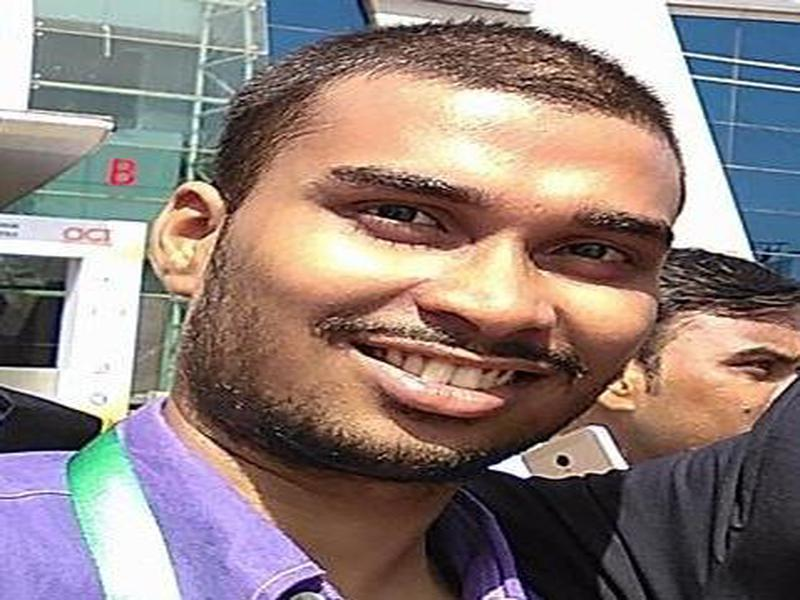without_mask: (240, 89, 661, 476)
